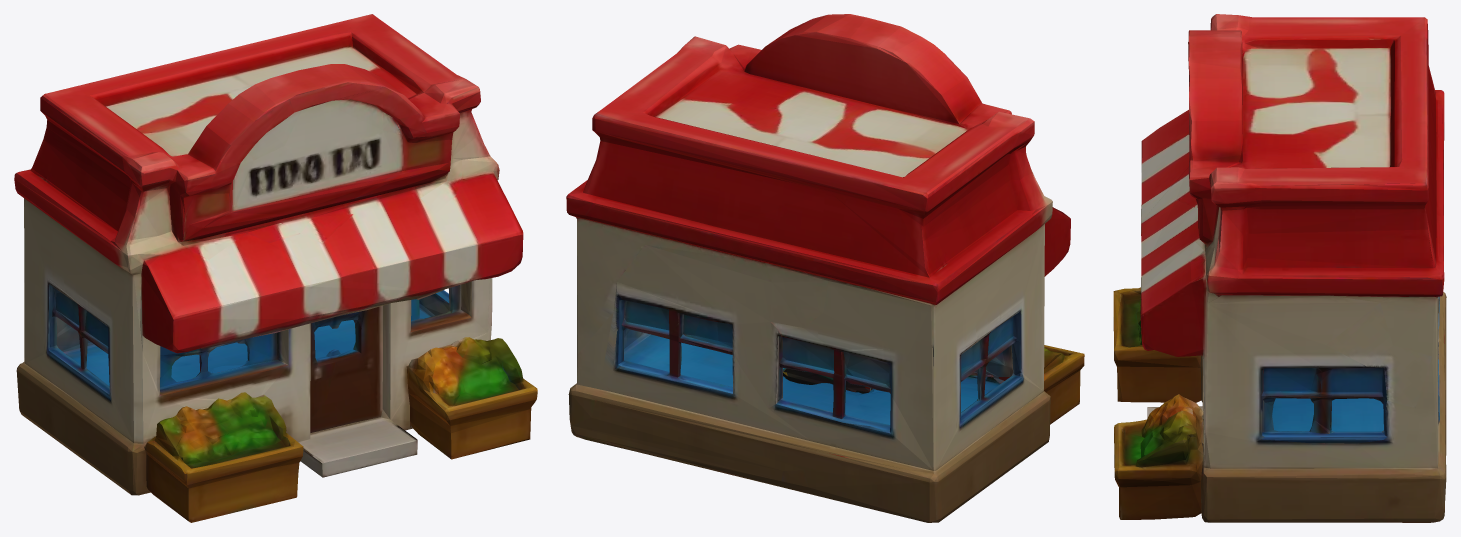
The model's file is market.glb.
3 renders of one model, left to right at view 1: azimuth 30°, elevation 25°; view 2: azimuth 150°, elevation 25°; view 3: azimuth 270°, elevation 25°, orthographic. The views are drawn at different scales.
Visible parts, largest first — view 1: geometry_0; view 2: geometry_0; view 3: geometry_0.
Boxes of the visible parts, <box> form: geometry_0: <box>14,14,537,522</box>; geometry_0: <box>566,14,1084,522</box>; geometry_0: <box>1113,14,1446,522</box>.
Size of the model in its own units: 0.4942 by 0.4705 by 0.3701.
1 material, 1 textured.
